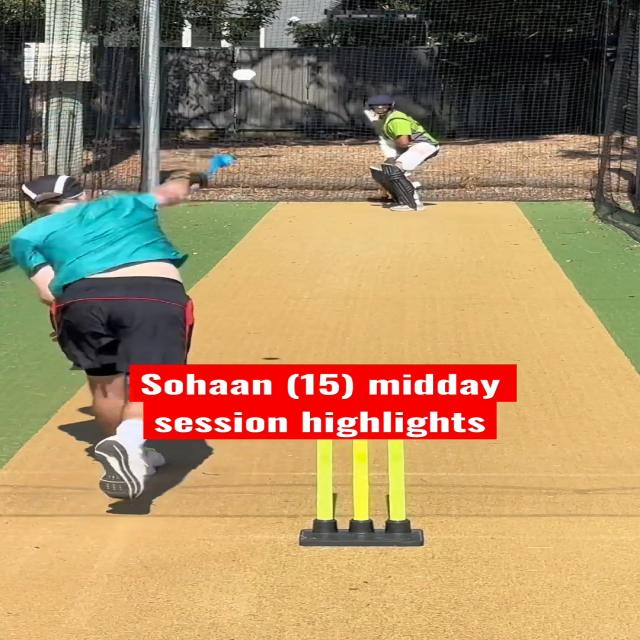Cricket ball: (230, 67, 260, 84)
